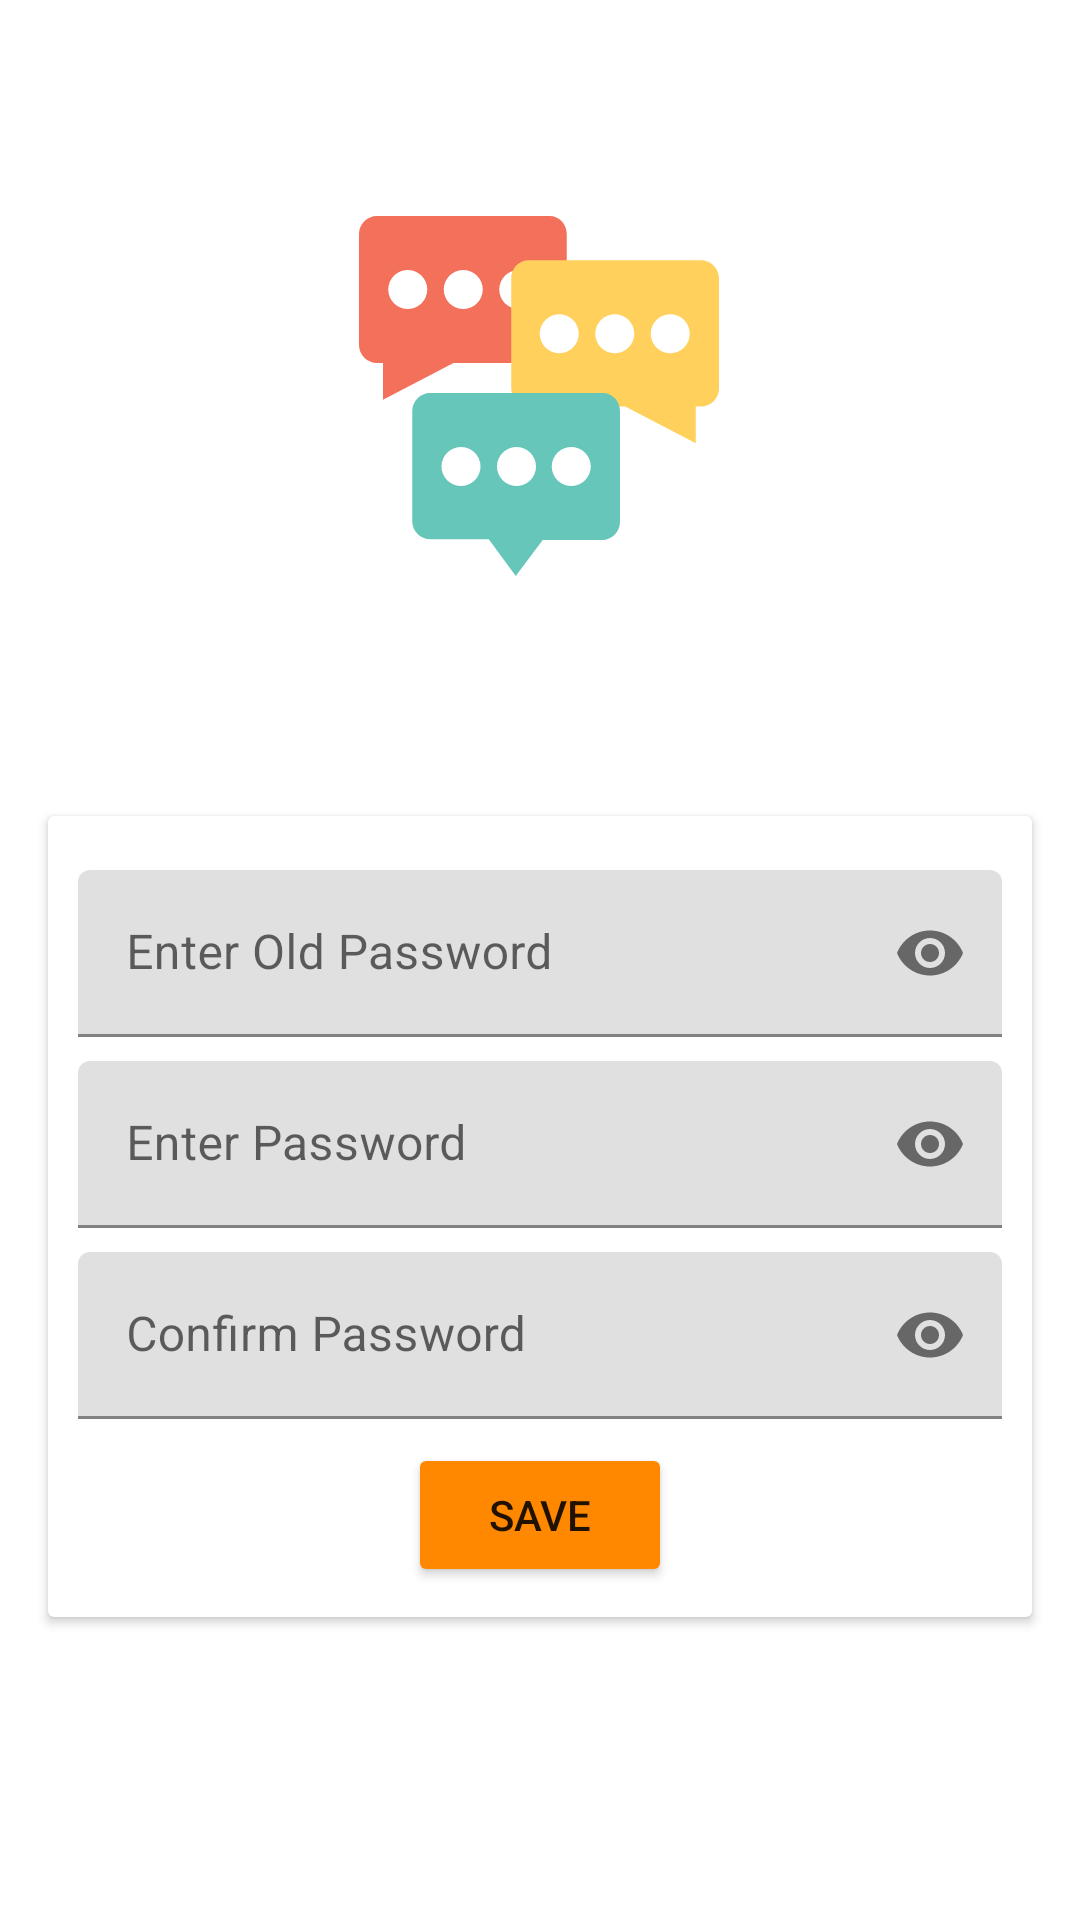

Icon bounding boxes for this 1080x1920 phone screenshot, format box=[x1, y1, x2, y2]:
chat: box=[359, 216, 719, 576]
